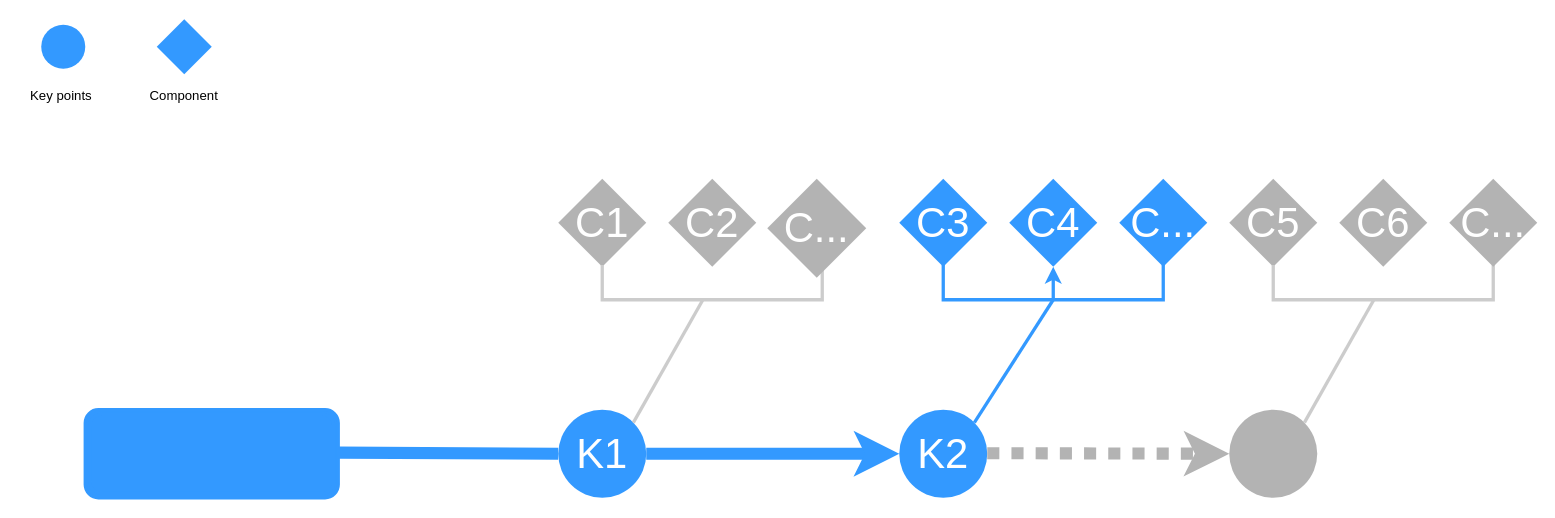
This 1555x518 diagram has some shape labels left out. The shapes that lost their labels are listed below. From the top down, each one's centre as x and y in pixels, then its label:
At point (211, 453): "process".
At point (1273, 453): "Kn".
